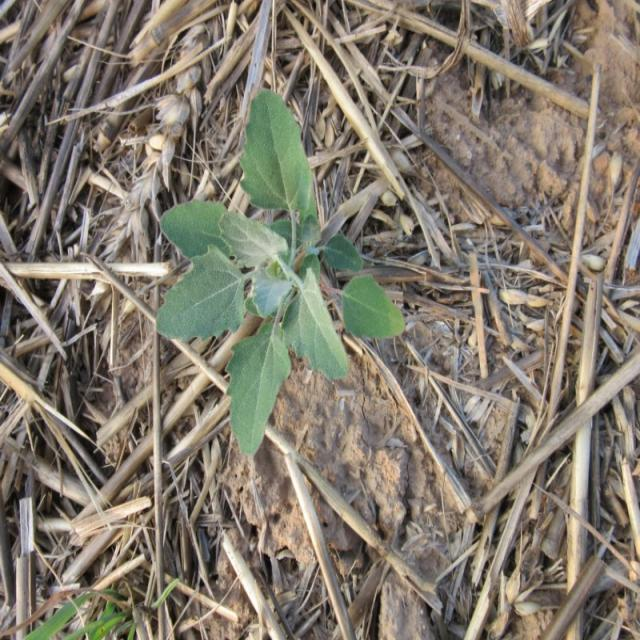ca: (159, 91, 403, 453)
